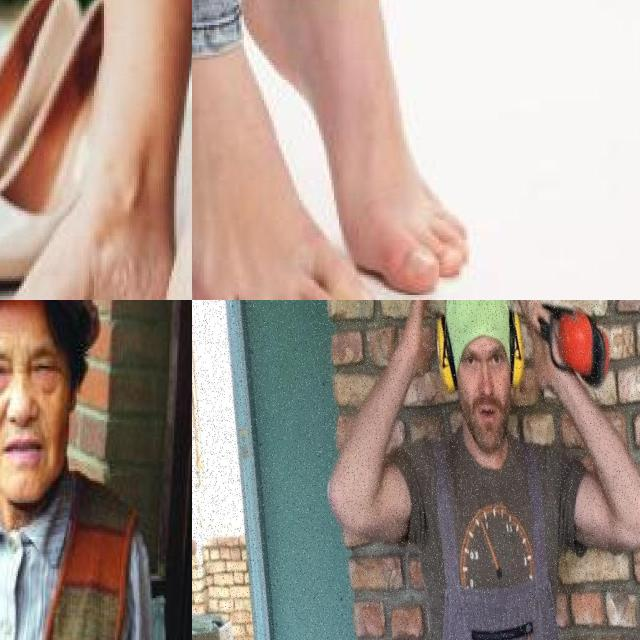Barefoots: (242, 0, 471, 290), (192, 0, 390, 300), (0, 118, 169, 300)
Ear-protection: (431, 310, 464, 404), (507, 300, 526, 395)
No_Glasses: (459, 337, 508, 380)
face_nomask: (0, 309, 75, 490)
person: (0, 300, 164, 640)
vest: (0, 471, 136, 640)
